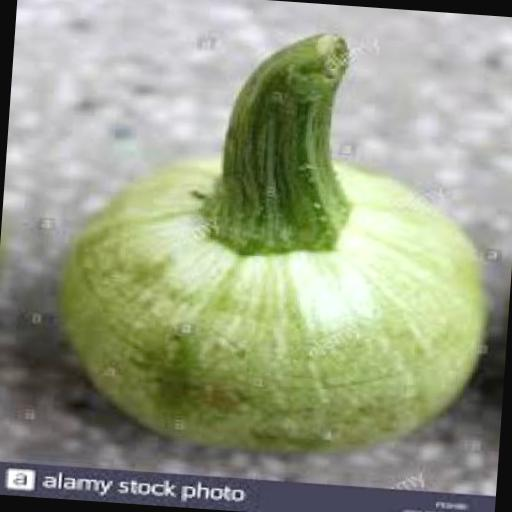biodegradable: (40, 10, 506, 468)
